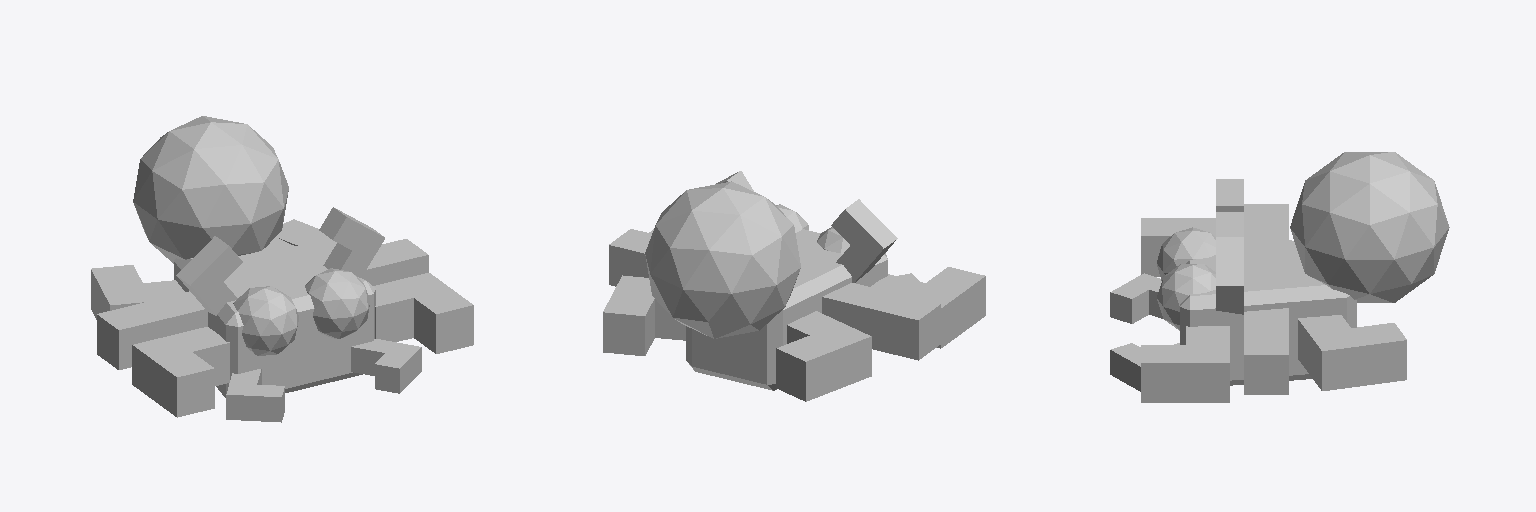
File: enemigo1.obj
3 views of the same model, side by side, from view 1: azimuth 30°, elevation 25°; view 2: azimuth 150°, elevation 25°; view 3: azimuth 270°, elevation 25° (orthographic).
Visible parts, largest first — view 1: Cube, Icosphere; view 2: Cube, Icosphere; view 3: Cube, Icosphere.
Boxes of the visible parts, <box> form: Cube: <box>91,207,473,422</box>; Icosphere: <box>133,116,288,263</box>; Cube: <box>603,171,985,401</box>; Icosphere: <box>645,181,800,338</box>; Cube: <box>1110,179,1406,402</box>; Icosphere: <box>1290,152,1449,302</box>.
Bounding box in the file's own units: 4.48 × 2.79 × 4.25.